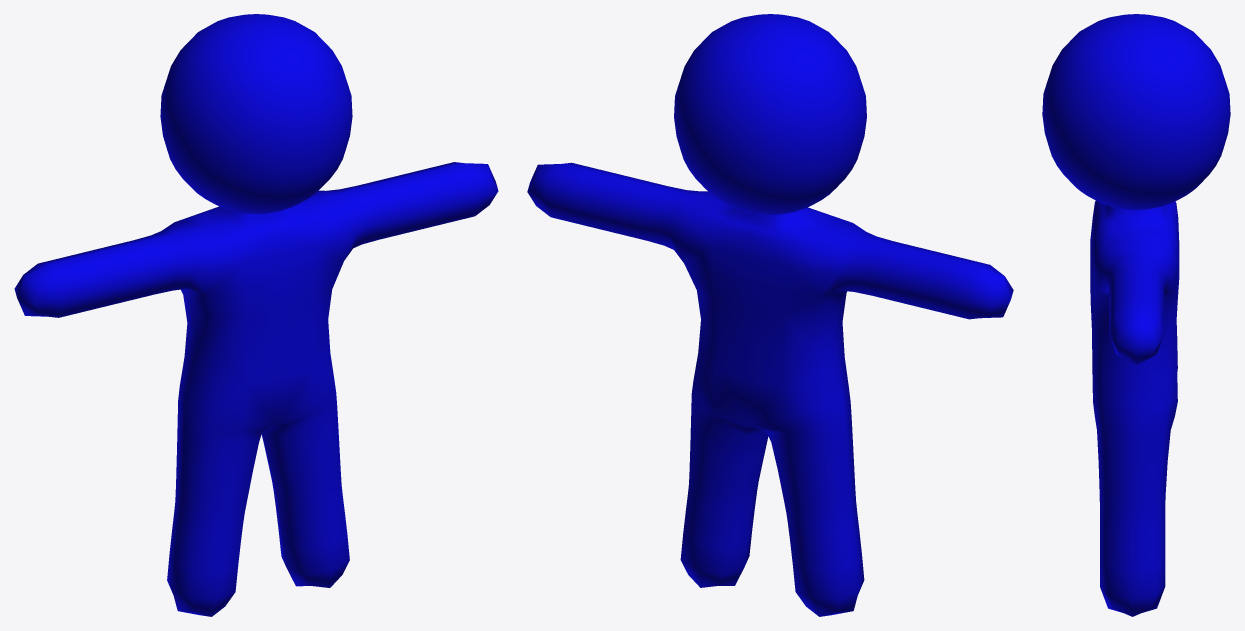
File: sticman (1).fbx
3 renders of one model, left to right at view 1: azimuth 30°, elevation 25°; view 2: azimuth 150°, elevation 25°; view 3: azimuth 270°, elevation 25°, orthographic. The views are drawn at different scales.
Parts seen in each view (by area): view 1: stickman; view 2: stickman; view 3: stickman.
Part boxes in pixels (box(x1,y1,x2,y2)): stickman: box(14, 14, 498, 616); stickman: box(527, 14, 1013, 616); stickman: box(1042, 14, 1230, 616).
Size of the model in its own units: 86.31 by 99.19 by 30.
